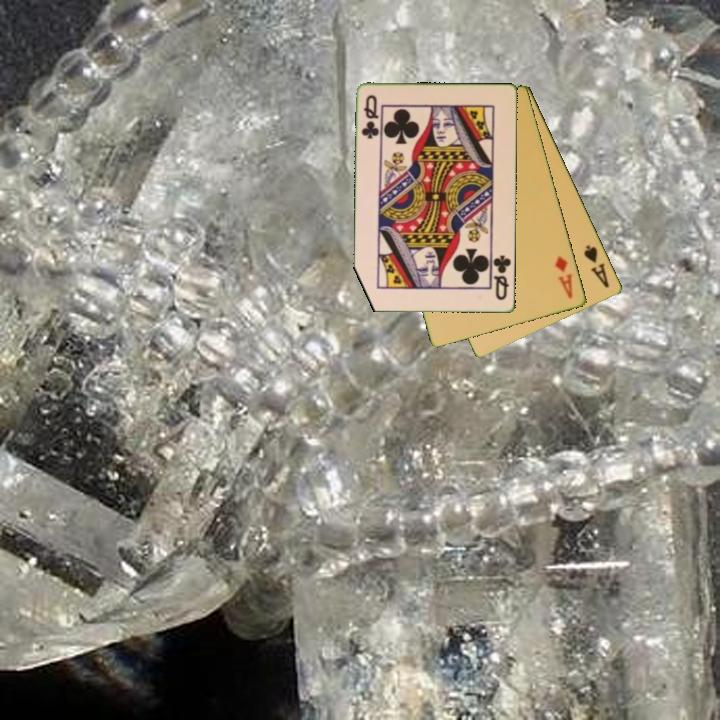Ad: (551, 252, 576, 302)
As: (580, 241, 613, 291)
Qc: (489, 250, 514, 303), (358, 91, 382, 142)
